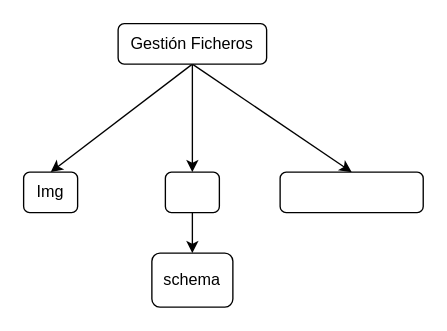
Image size: 447x331. Some labels were removed from this diagram. The centre of each missing label's shape, as x and y in pixels:
proyect versions: (x=351, y=192)
src: (x=191, y=192)
